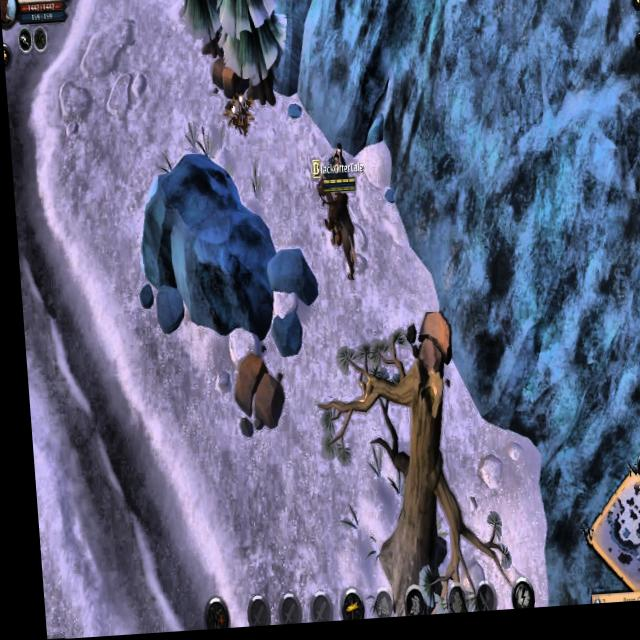limestone: (222, 352, 282, 441), (398, 316, 450, 387), (204, 58, 253, 105)
